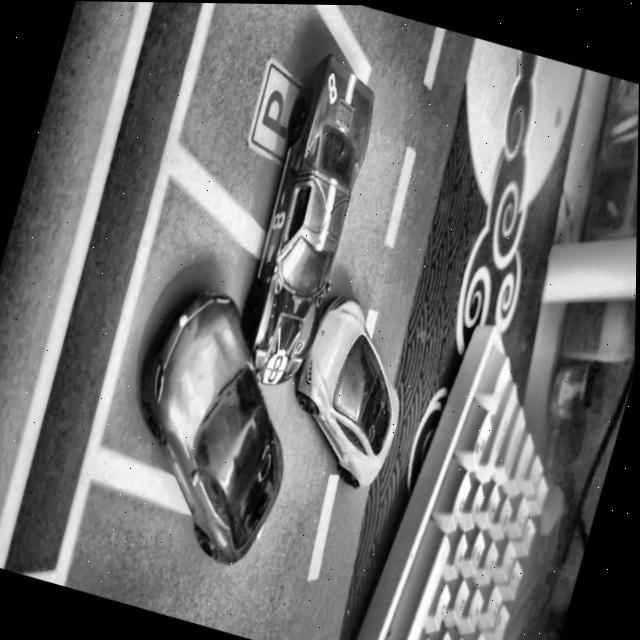car: (98, 275, 328, 572), (219, 45, 392, 395), (273, 284, 429, 493)
